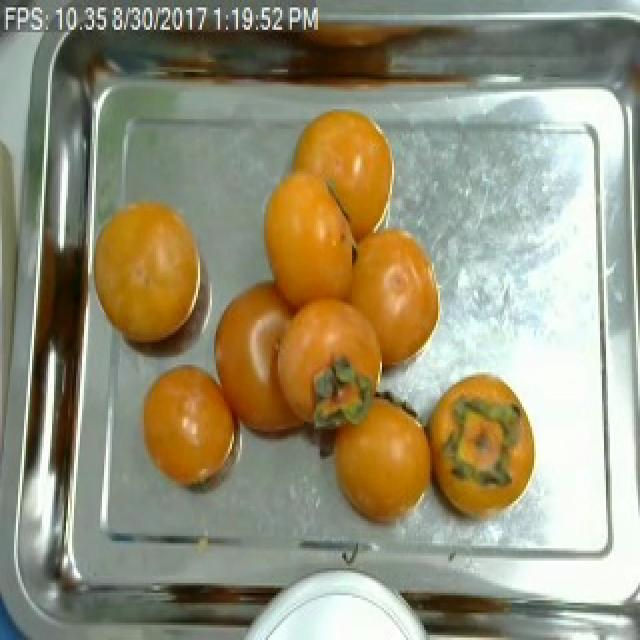Fruit: (298, 380, 448, 546), (90, 184, 212, 362), (422, 360, 544, 536), (338, 208, 448, 394), (130, 347, 252, 504), (282, 97, 402, 246)
